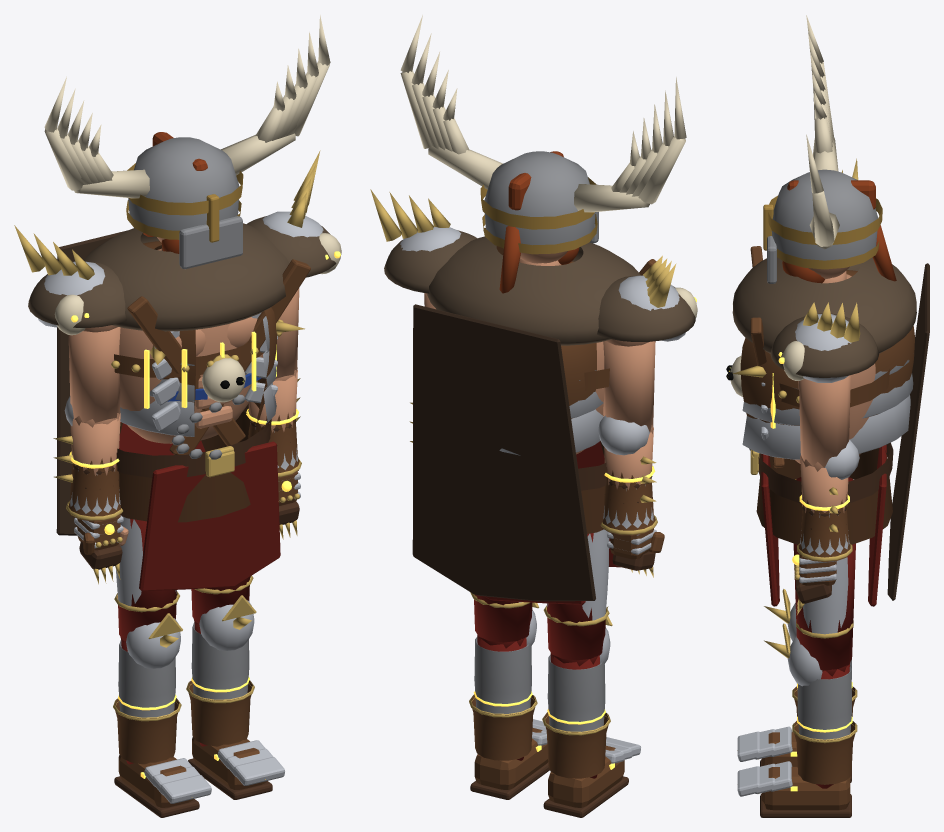
The model's file is hero_berserker.glb.
3 renders of one model, left to right at view 1: azimuth 30°, elevation 25°; view 2: azimuth 150°, elevation 25°; view 3: azimuth 270°, elevation 25°, orthographic. The views are drawn at different scales.
Visible parts, largest first — view 1: kilt, furcollar, helm, upperarm.001, kiltwrap, chest, cape, fur.001, greave.001, greave, cuff.001, cuff (+36 smaller); view 2: cape, furcollar, helm, upperarm.001, fur.001, greave, greave.001, cuff.001, thigh.001, cuff, fur, thigh (+23 smaller); view 3: furcollar, helm, cape, kiltwrap, upperarm, plate.004, vest, fur, greave, thigh, cuff, boot (+36 smaller).
Boxes of the visible parts, x1=… form: kilt: x1=139, y1=441, x2=280, y2=591; furcollar: x1=83, y1=223, x2=289, y2=331; helm: x1=128, y1=137, x2=239, y2=230; upperarm.001: x1=68, y1=327, x2=120, y2=422; kiltwrap: x1=119, y1=411, x2=261, y2=522; chest: x1=119, y1=248, x2=263, y2=443; cape: x1=56, y1=230, x2=126, y2=535; fur.001: x1=28, y1=262, x2=126, y2=327; greave.001: x1=118, y1=640, x2=175, y2=717; greave: x1=191, y1=622, x2=249, y2=699; cuff.001: x1=114, y1=698, x2=180, y2=764; cuff: x1=187, y1=680, x2=253, y2=746; cape: x1=412, y1=304, x2=595, y2=601; furcollar: x1=427, y1=236, x2=640, y2=345; helm: x1=484, y1=151, x2=595, y2=245; upperarm.001: x1=603, y1=341, x2=655, y2=432; fur.001: x1=597, y1=276, x2=695, y2=341; greave: x1=474, y1=637, x2=531, y2=713; greave.001: x1=547, y1=655, x2=605, y2=731; cuff.001: x1=543, y1=712, x2=609, y2=778; thigh.001: x1=547, y1=533, x2=605, y2=660; cuff: x1=470, y1=694, x2=536, y2=760; fur: x1=384, y1=230, x2=477, y2=293; thigh: x1=474, y1=595, x2=532, y2=642; furcollar: x1=732, y1=257, x2=916, y2=353; helm: x1=771, y1=169, x2=878, y2=260; cape: x1=887, y1=263, x2=929, y2=600; kiltwrap: x1=756, y1=448, x2=892, y2=544; upperarm: x1=799, y1=375, x2=850, y2=467; plate.004: x1=742, y1=394, x2=910, y2=459; vest: x1=740, y1=270, x2=914, y2=425; fur: x1=770, y1=313, x2=878, y2=377; greave: x1=797, y1=665, x2=851, y2=739; thigh: x1=793, y1=543, x2=855, y2=670; cuff: x1=793, y1=721, x2=855, y2=784; boot: x1=761, y1=766, x2=850, y2=810.
Bounding box in the file's own units: 1 × 2.33 × 0.5975.
